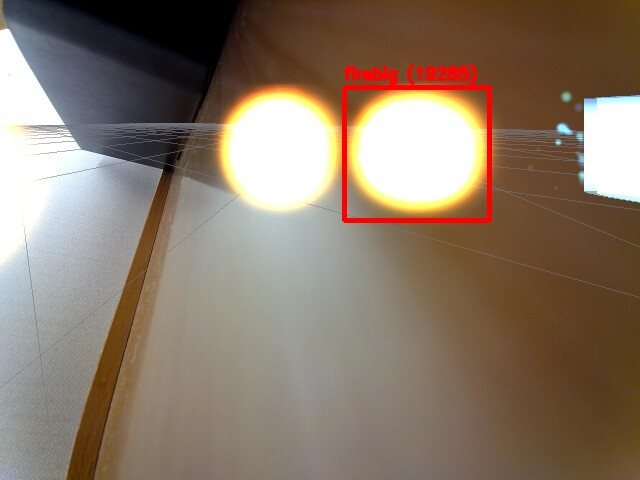firebig: (344, 87, 489, 220)
